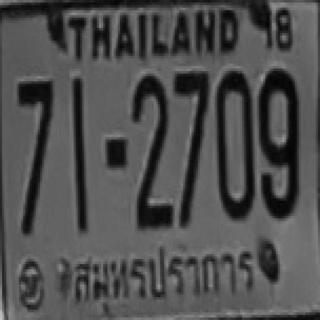N00: (257, 66, 297, 162), (131, 72, 166, 166)
N07: (17, 79, 53, 178), (173, 70, 208, 156)
N09: (257, 76, 297, 216), (257, 93, 297, 215)
P57: (59, 236, 260, 311)
